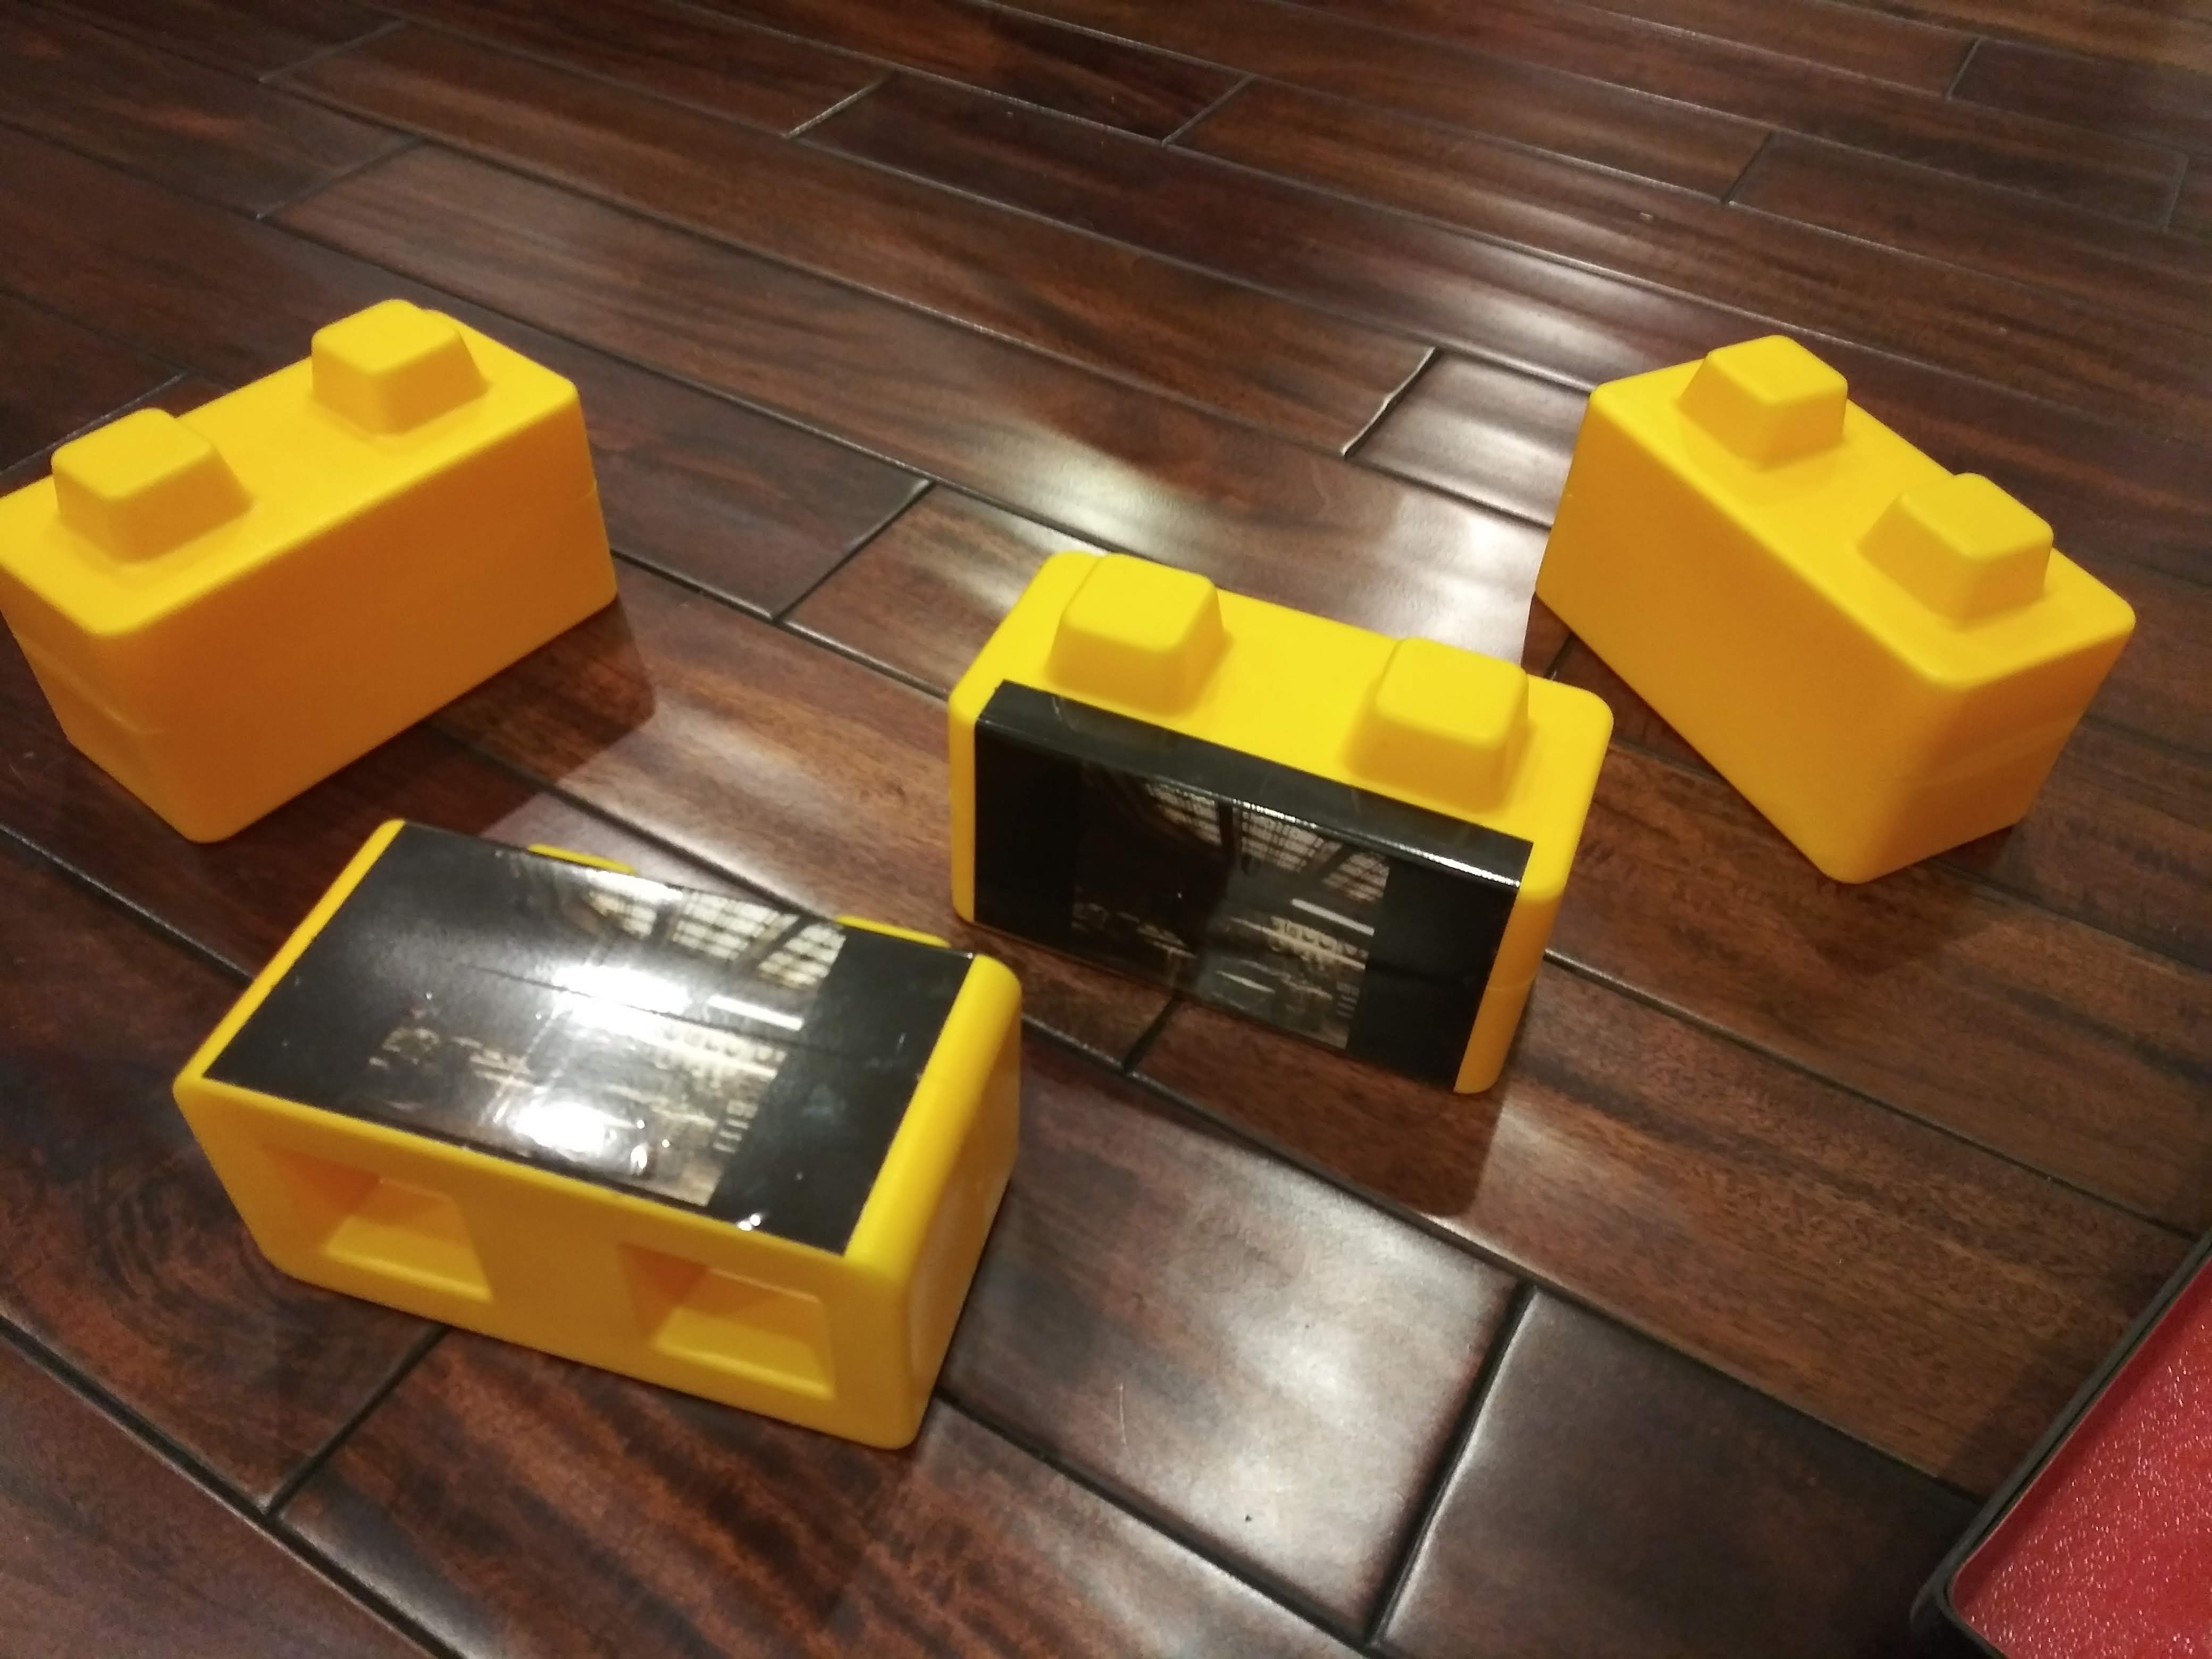skystone: (237, 828, 954, 1389), (988, 620, 1521, 1035)
stone: (1571, 378, 2048, 866), (44, 410, 636, 744)
